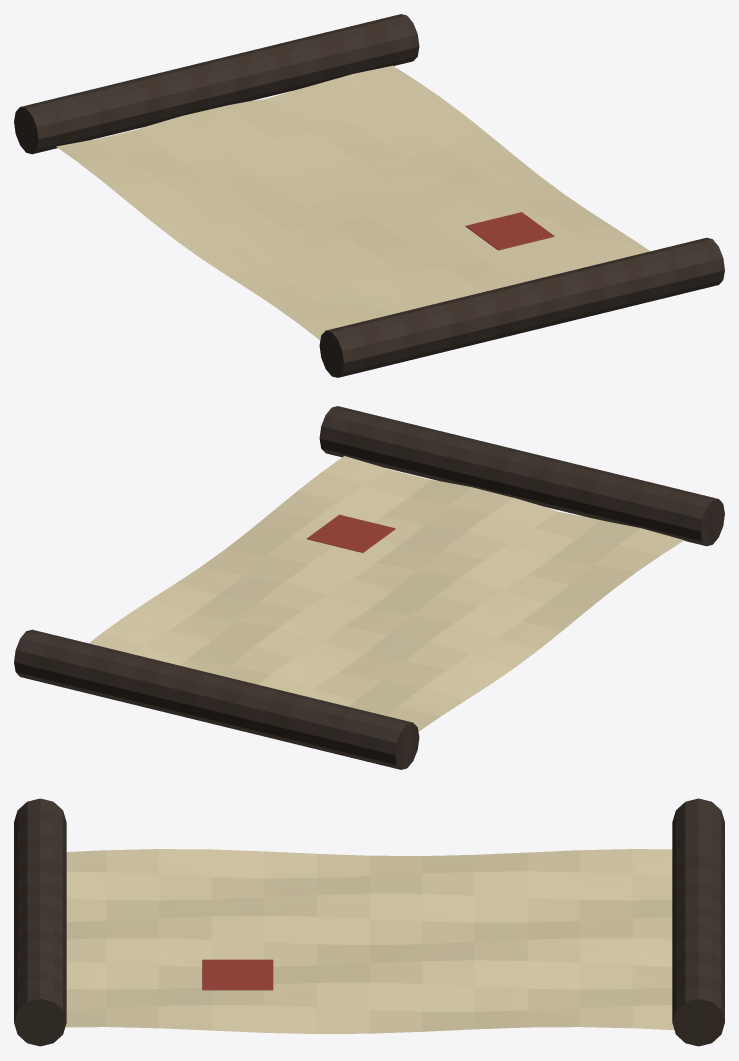
The model's file is PR_OrderScroll.glb.
3 views of the same model, one above another, from view 1: azimuth 30°, elevation 25°; view 2: azimuth 150°, elevation 25°; view 3: azimuth 270°, elevation 25° (orthographic). The views are drawn at different scales.
Parts seen in each view (by area): view 1: PR_OrderScroll; view 2: PR_OrderScroll; view 3: PR_OrderScroll.
Part boxes in pixels (x1,y1,x2,y2): PR_OrderScroll: (14, 14, 724, 377); PR_OrderScroll: (14, 406, 724, 769); PR_OrderScroll: (14, 798, 724, 1046).
Size of the model in its own units: 0.36 by 0.04 by 0.54.
3 materials, 2 textured.
